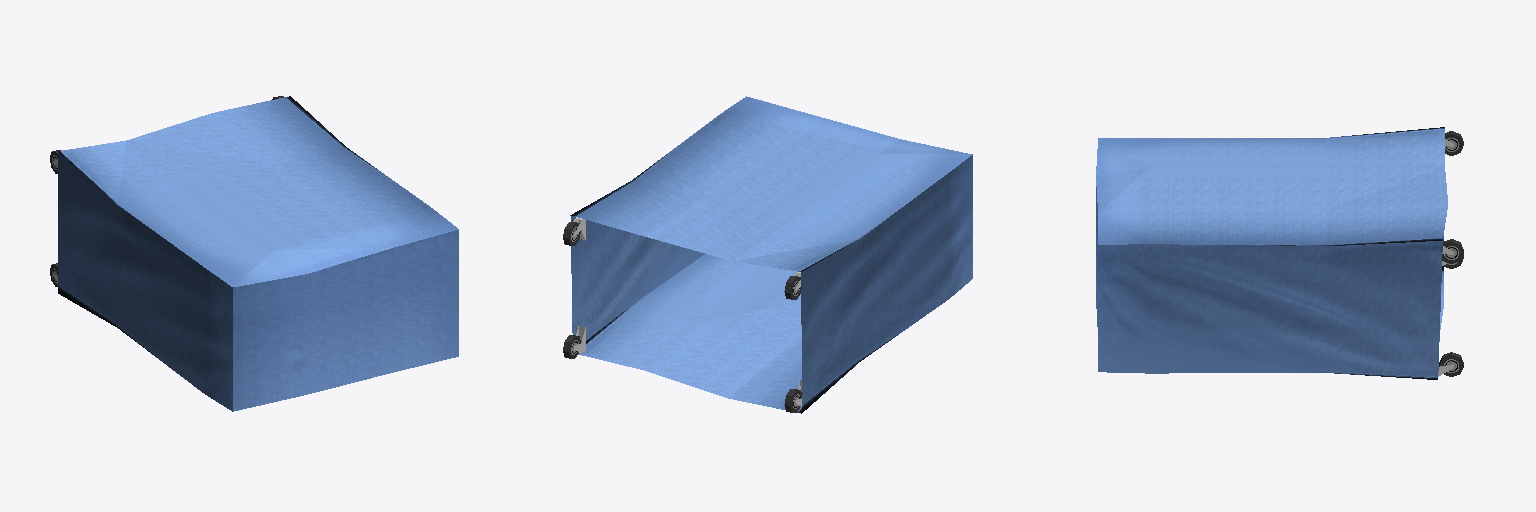
3 views of the same model, side by side, from view 1: azimuth 30°, elevation 25°; view 2: azimuth 150°, elevation 25°; view 3: azimuth 270°, elevation 25° (orthographic).
Parts seen in each view (by area): view 1: StorageRackCovered; view 2: StorageRackCovered; view 3: StorageRackCovered.
Part boxes in pixels (x1,y1,x2,y2): StorageRackCovered: (50, 96, 458, 411); StorageRackCovered: (563, 96, 972, 413); StorageRackCovered: (1096, 127, 1463, 379).
Size of the model in its own units: 1.28 by 0.7625 by 1.76.
1 materials, 1 textured.